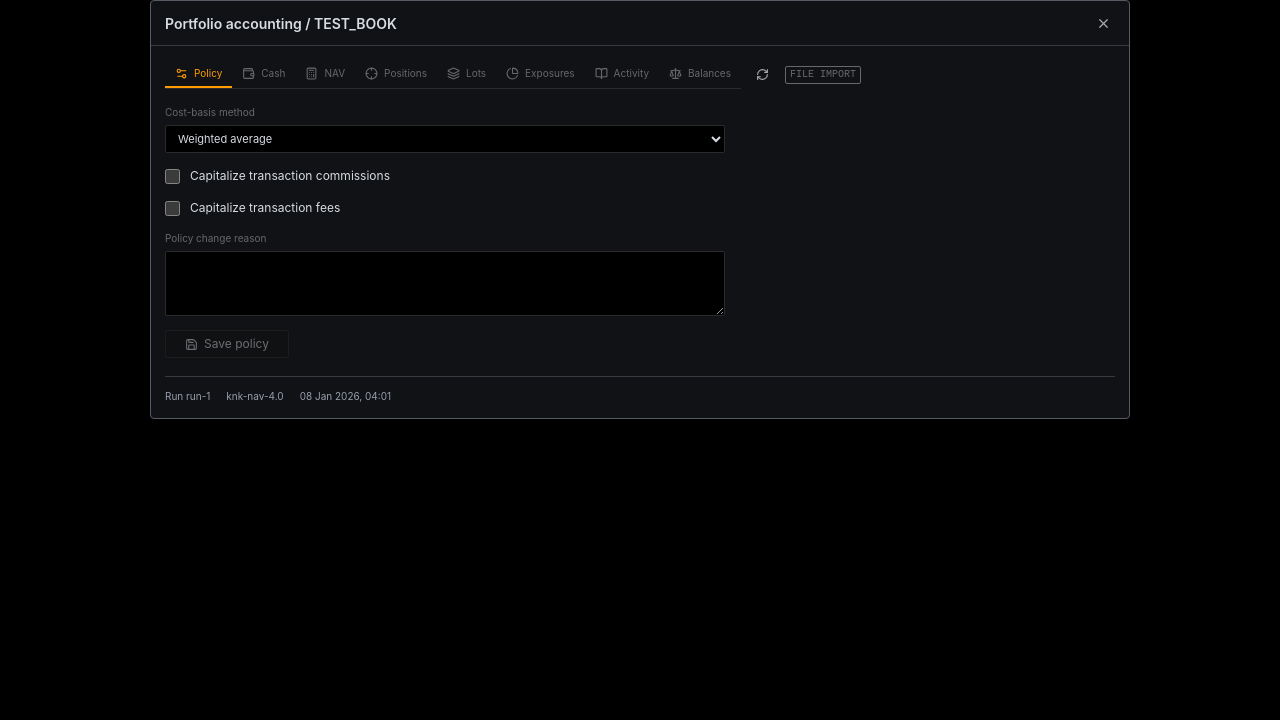
accounting controls › retries failed Positions detail on explicit refresh even when the parent run is unchanged
The width and height of the screenshot is (1280, 720).
Expected: the dropdown labelled "Cost-basis method" is shown, [165, 125, 725, 153]
Click the button "Positions" at (396, 74), box [355, 60, 437, 88]
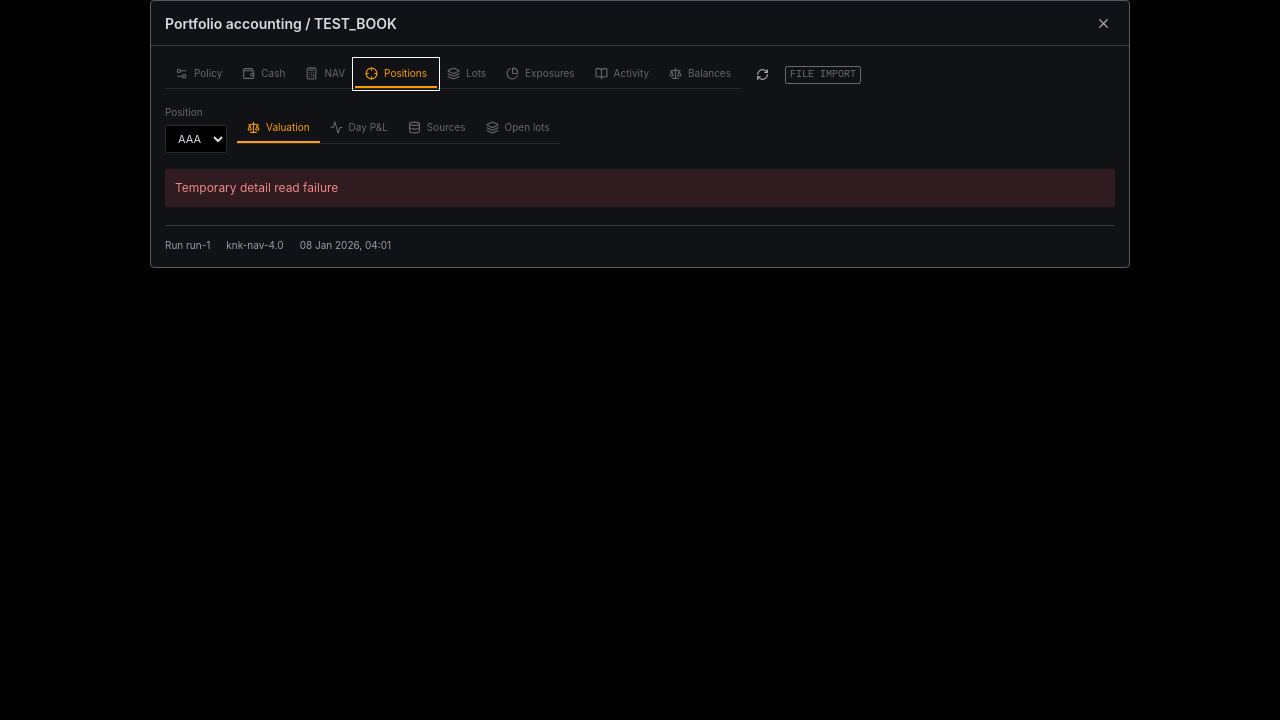
Now the message reads "Temporary detail read failure", box [175, 180, 338, 195]
Click the button named "Refresh accounting records" at (763, 74), box [751, 62, 775, 86]
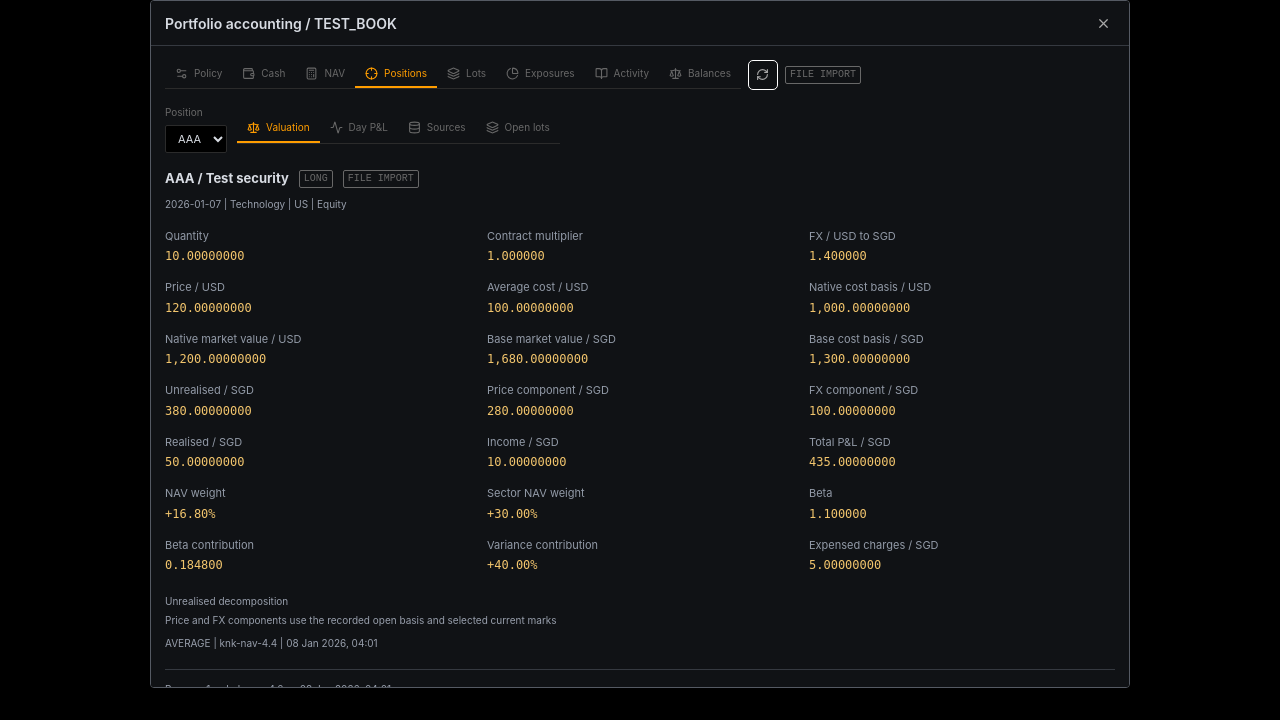
Now the text "AAA / Test security" is shown, box [165, 169, 289, 188]
Now the message "Temporary detail read failure" is gone
